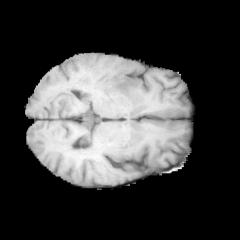glioma: (78, 54, 143, 98)
